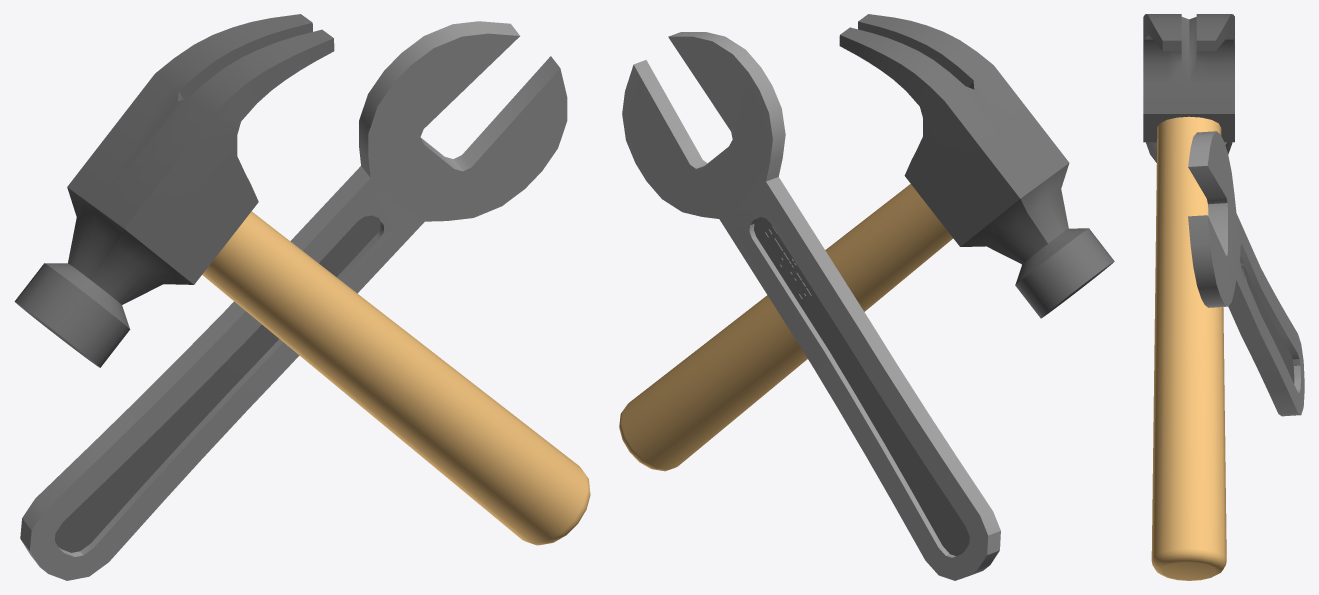
Rendered from hammer_and_wrench.fbx.
3 views of the same model, side by side, from view 1: azimuth 30°, elevation 25°; view 2: azimuth 150°, elevation 25°; view 3: azimuth 270°, elevation 25° (orthographic). The views are drawn at different scales.
Visible parts, largest first — view 1: Cube.989; view 2: Cube.989; view 3: Cube.989.
Part boxes in pixels (<box>): Cube.989: <box>14,14,590,580</box>; Cube.989: <box>619,14,1114,580</box>; Cube.989: <box>1143,14,1304,580</box>.
Size of the model in its own units: 218 by 211 by 67.66.
Materials: 1 (1 with a texture image).
